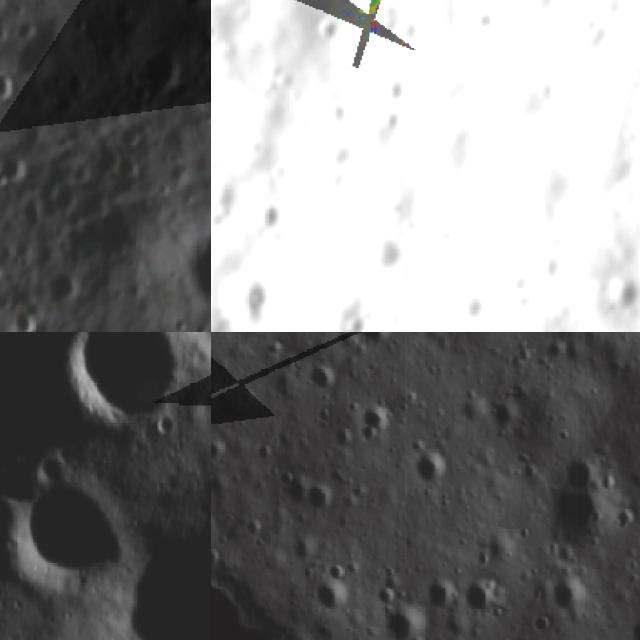crater: (0, 474, 126, 576), (65, 332, 183, 417), (211, 556, 294, 640), (533, 473, 613, 559), (211, 261, 301, 332), (10, 10, 76, 87), (344, 218, 412, 282), (129, 42, 193, 104), (531, 569, 588, 622), (597, 264, 640, 329), (181, 221, 211, 312), (304, 474, 347, 528), (404, 446, 449, 496), (487, 392, 529, 445), (44, 82, 91, 129), (312, 569, 358, 616), (465, 572, 505, 622), (355, 398, 396, 445), (303, 354, 340, 404), (45, 266, 85, 312), (246, 200, 292, 240), (0, 145, 38, 190), (424, 574, 462, 608), (0, 67, 24, 114), (389, 604, 420, 640), (358, 332, 404, 356), (211, 432, 231, 464), (179, 0, 211, 13)
